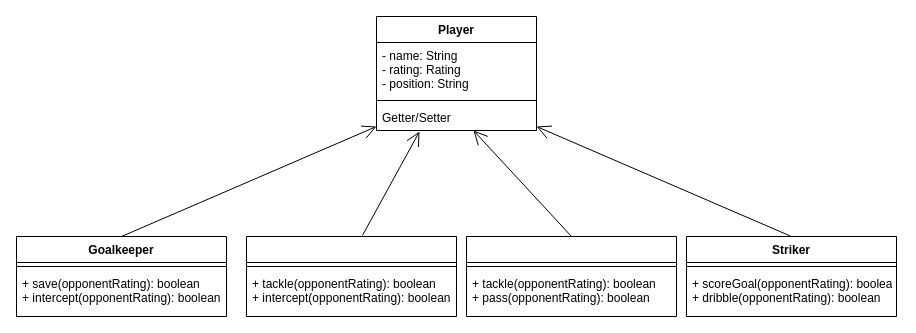
Some shapes in this 916 by 333 pixel diagram are drawn without their labels. The box of each missing label's shape, as (x1, y1, x2, y2) in pixels:
Defender: (246, 236, 456, 316)
Midfielder: (466, 236, 676, 316)
